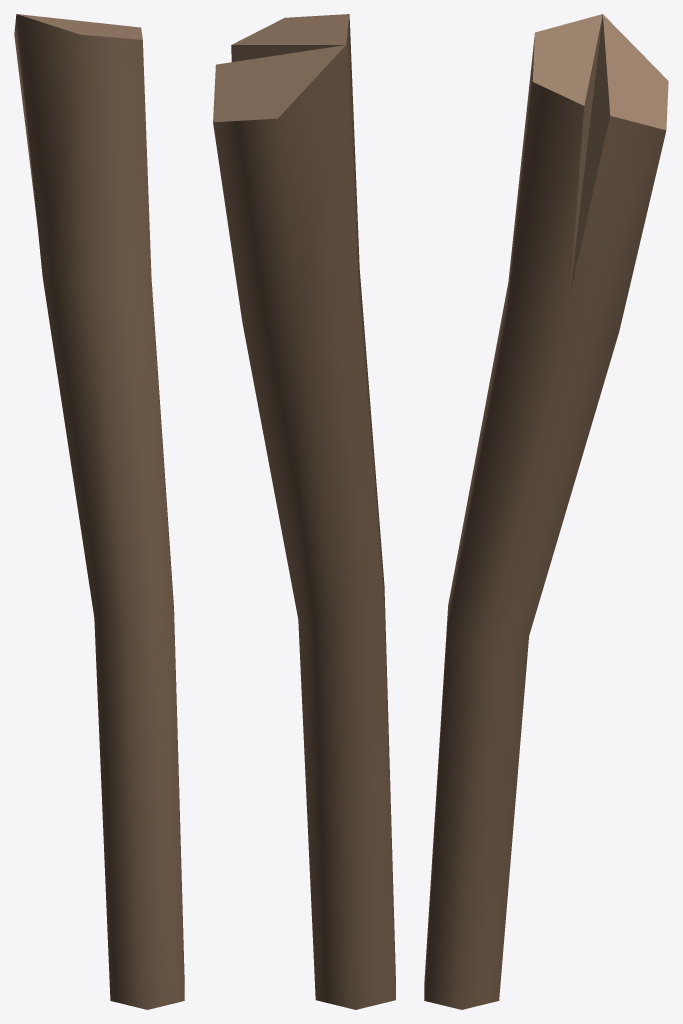
Rendered from P_Fence_05.fbx.
3 renders of one model, left to right at view 1: azimuth 30°, elevation 25°; view 2: azimuth 150°, elevation 25°; view 3: azimuth 270°, elevation 25°, orthographic. The views are drawn at different scales.
Parts seen in each view (by area): view 1: lod1; view 2: lod1; view 3: lod1.
Boxes of the visible parts, left/top/right/bottom form: lod1: left=14, top=14, right=184, bottom=1009; lod1: left=213, top=14, right=395, bottom=1009; lod1: left=424, top=14, right=668, bottom=1009.
Size of what is drawn, in the model's own units: 18.63 by 143 by 33.47.
Materials: 1 (1 with a texture image).
